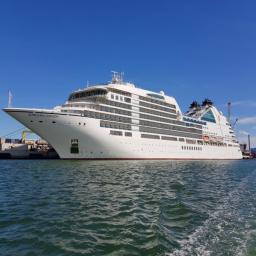cruises: (2, 69, 247, 164)
